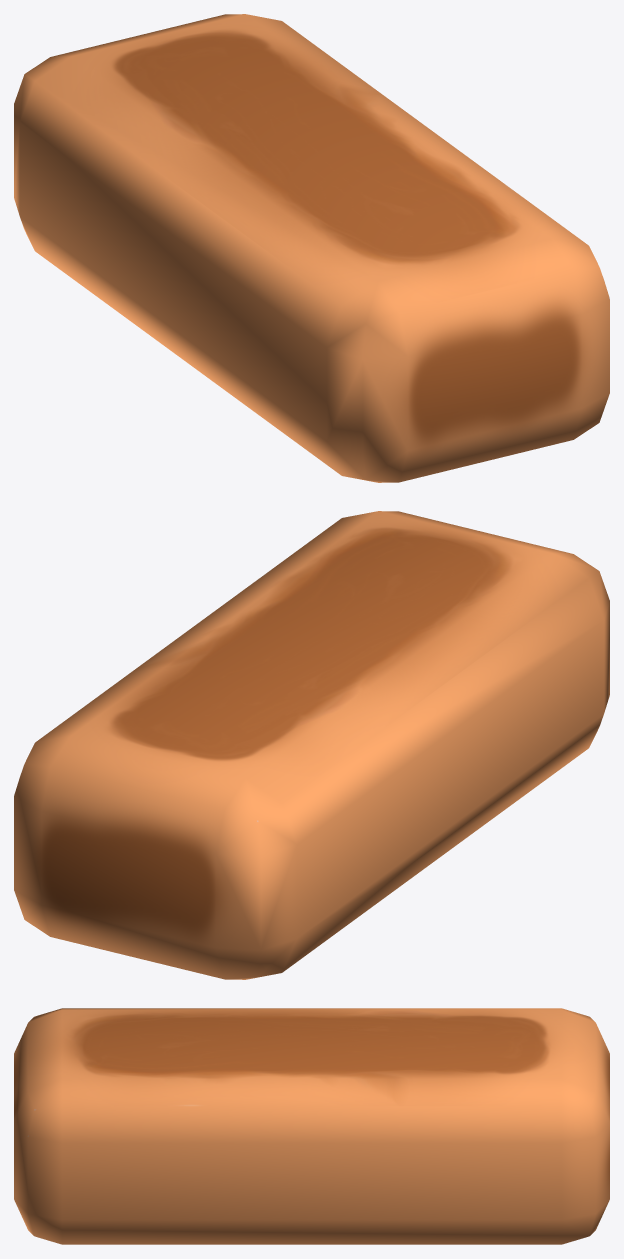
The model's file is smallhalfWoodBalk.fbx.
The picture shows the model from 3 angles, top to bottom: view 1: azimuth 30°, elevation 25°; view 2: azimuth 150°, elevation 25°; view 3: azimuth 270°, elevation 25°; orthographic projection. The views are drawn at different scales.
Visible parts, largest first — view 1: wallBalk; view 2: wallBalk; view 3: wallBalk.
Boxes of the visible parts, x1,y1,x2,y2 form: wallBalk: [14, 14, 609, 482]; wallBalk: [14, 511, 609, 979]; wallBalk: [14, 1008, 609, 1244].
Bounding box in the file's own units: 4285 × 2977 × 9808.
